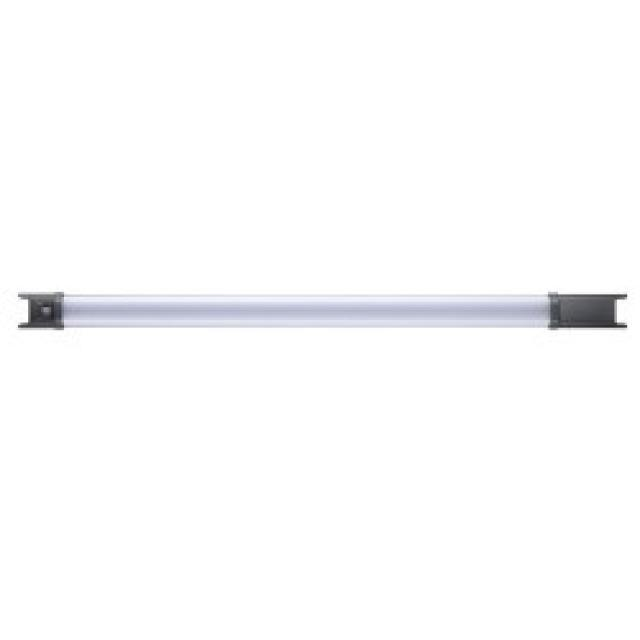tubelight_off: (10, 288, 640, 338)
